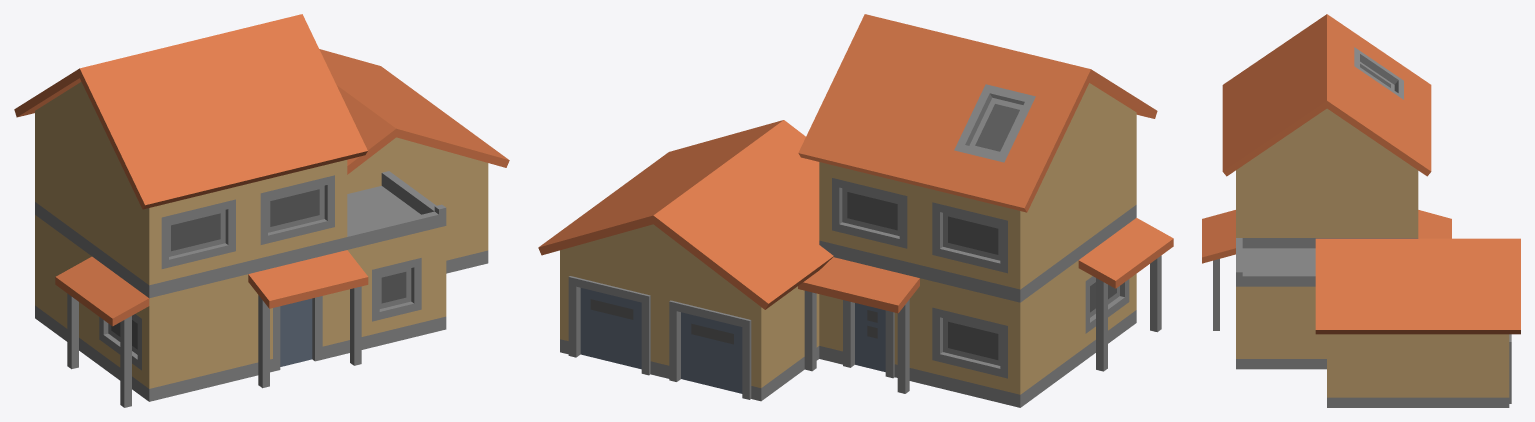
The model's file is SM_Suburb_House_09.fbx.
3 views of the same model, side by side, from view 1: azimuth 30°, elevation 25°; view 2: azimuth 150°, elevation 25°; view 3: azimuth 270°, elevation 25° (orthographic). The views are drawn at different scales.
Parts seen in each view (by area): view 1: SM_Suburb_House_09; view 2: SM_Suburb_House_09; view 3: SM_Suburb_House_09.
Part boxes in pixels (<box>): SM_Suburb_House_09: <box>14,14,509,407</box>; SM_Suburb_House_09: <box>538,14,1173,407</box>; SM_Suburb_House_09: <box>1202,14,1520,407</box>.
Size of the model in its own units: 1300 by 819 by 1006.
